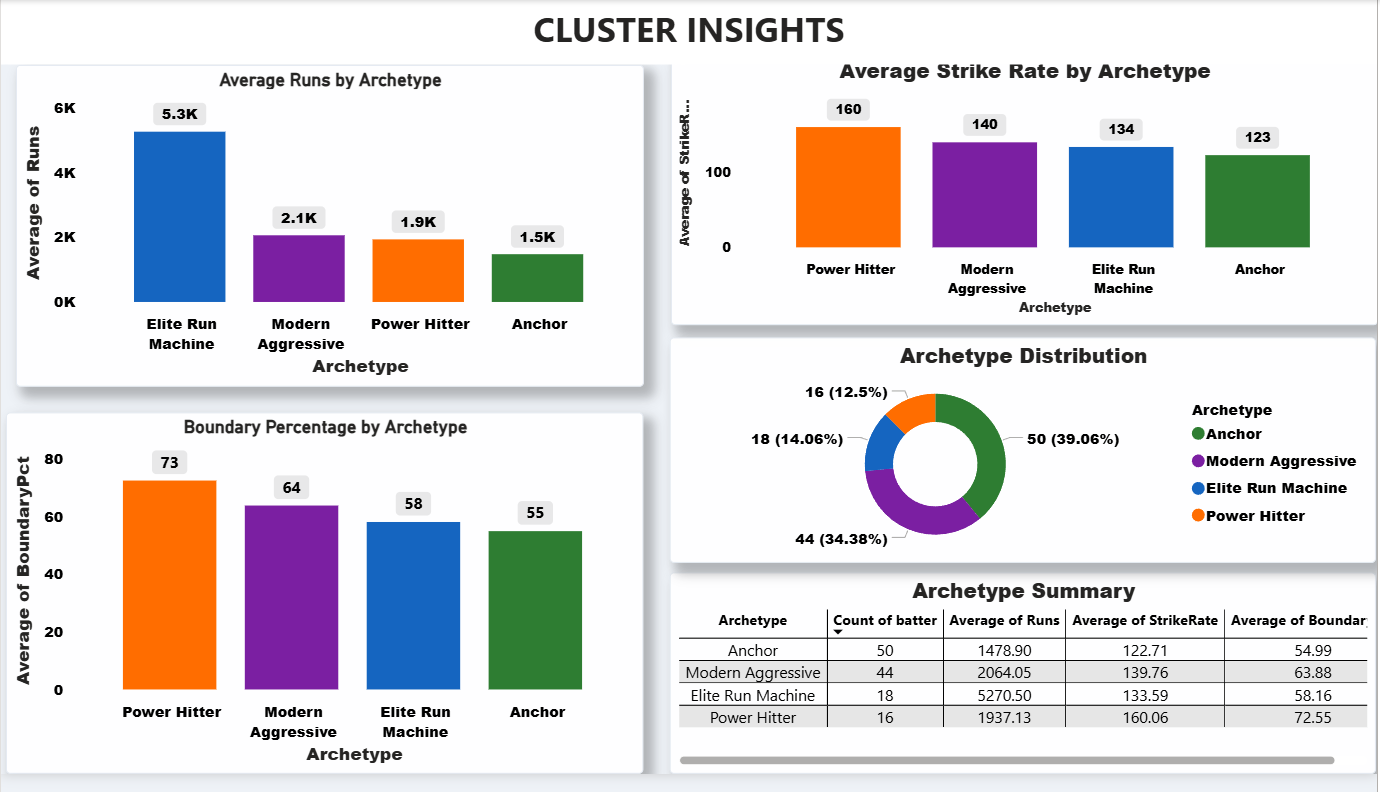

Layout of this report page (visuals, bound fields, positions):
{"tool":"powerbi","page":{"name":"Cluster Insights","canvas":[1280,720],"ordinal":2},"visuals":[{"type":"clusteredColumnChart","title":"Average Runs by Archetype","fields":{"Y":["Avg(ipl_batter_clusters.Runs)"],"Category":["ipl_batter_clusters.Archetype"]},"box":[14,60.5,583.7,298.8],"z":0},{"type":"clusteredColumnChart","title":"Average Strike Rate by Archetype","fields":{"Category":["ipl_batter_clusters.Archetype"],"Y":["Avg(ipl_batter_clusters.StrikeRate)"]},"box":[623,49.4,657.3,253.9],"z":1000},{"type":"clusteredColumnChart","title":"Boundary Percentage by Archetype","fields":{"Category":["ipl_batter_clusters.Archetype"],"Y":["Avg(ipl_batter_clusters.BoundaryPct)"]},"box":[4.7,383.7,593,336],"z":2000},{"type":"tableEx","title":"Archetype Summary","fields":{"Values":["ipl_batter_clusters.Archetype","ipl_batter_clusters.batter","Avg(ipl_batter_clusters.Runs)","Avg(ipl_batter_clusters.StrikeRate)","Avg(ipl_batter_clusters.BoundaryPct)"]},"box":[622.1,532.6,657,187.2],"z":3000},{"type":"actionButton","box":[0,0,100,40],"z":4000},{"type":"textbox","box":[0,0,1280.3,60.4],"z":5000},{"type":"donutChart","title":"Archetype Distribution","fields":{"Category":["ipl_batter_clusters.Archetype"],"Y":["CountNonNull(ipl_batter_clusters.batter)"]},"box":[622.1,314,657,209.3],"z":6000}]}

Visuals, with their boxes in screenshot pixels (x1, y1, x2, y2), scaled from the page's 1280x720 canvas onto the 1380x792 screenshot:
"Average Runs by Archetype" clusteredColumnChart: 15/67/644/395
"Average Strike Rate by Archetype" clusteredColumnChart: 672/54/1379/334
"Boundary Percentage by Archetype" clusteredColumnChart: 5/422/644/791
"Archetype Summary" tableEx: 671/586/1379/791
actionButton: 0/0/108/44
textbox: 0/0/1379/66
"Archetype Distribution" donutChart: 671/345/1379/576
